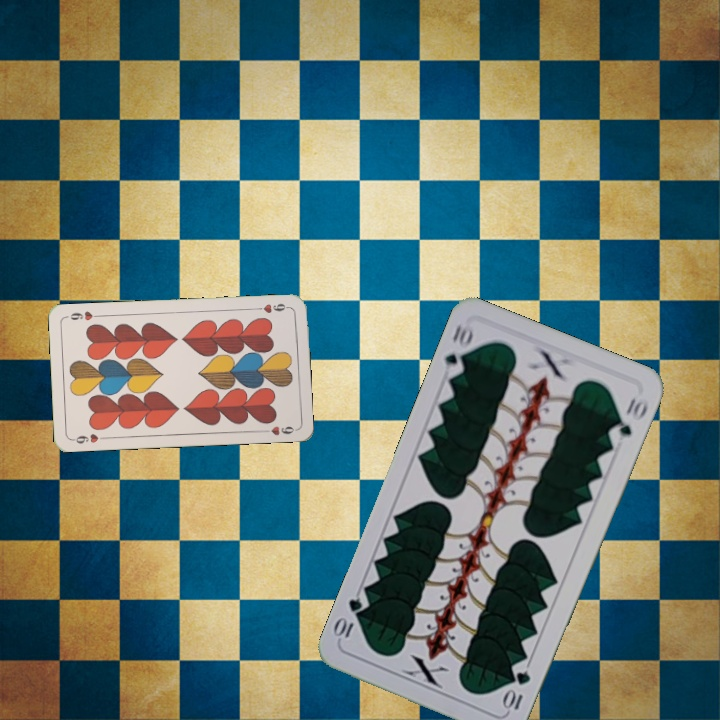G10: (440, 320, 476, 380), (500, 666, 533, 714)
H9: (68, 430, 109, 446), (251, 300, 292, 315)
